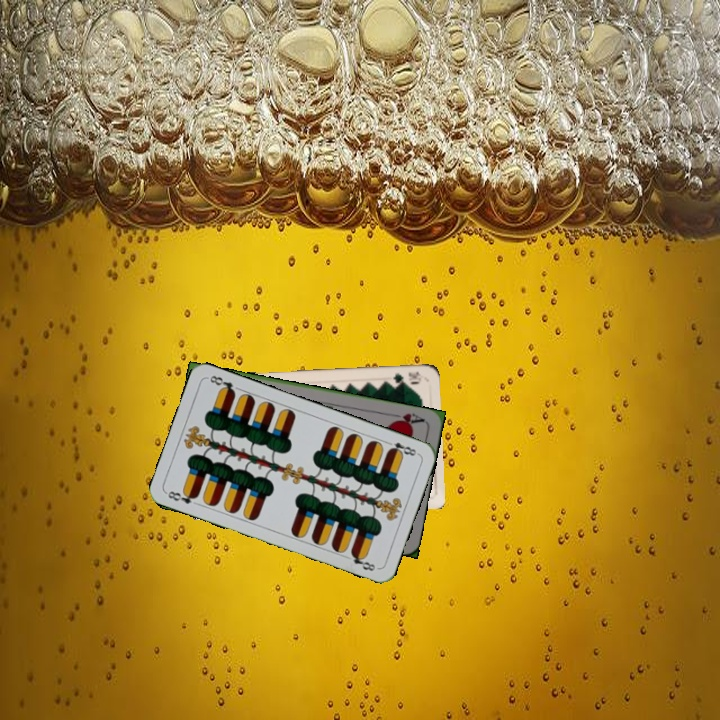E8: (382, 437, 421, 459), (163, 486, 201, 506)
G10: (389, 368, 423, 386)
HA: (386, 409, 427, 429)
